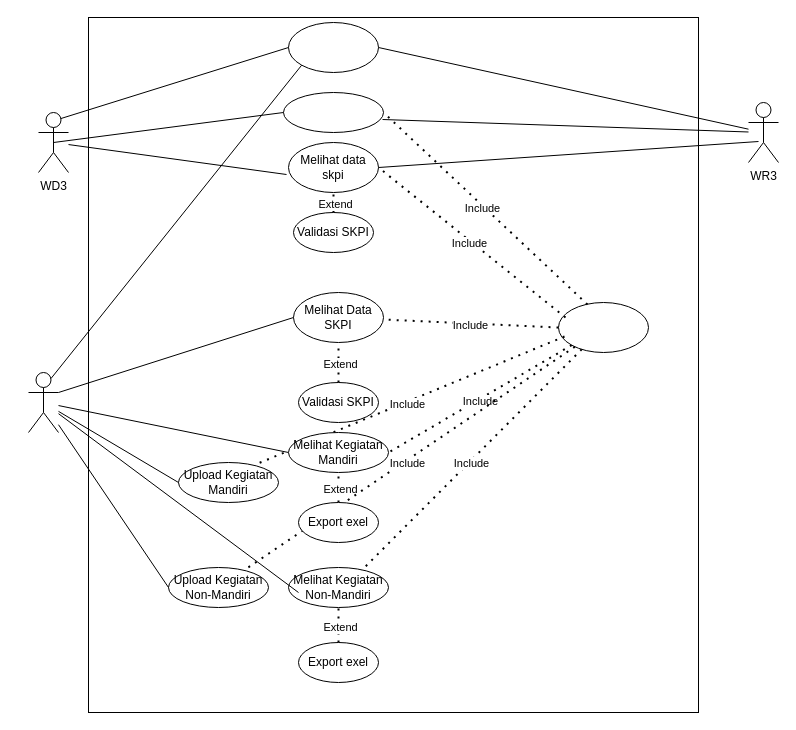
Some shapes in this 796 by 730 pixel diagram are drawn without their labels. The shapes that lost their labels are listed below. From the top down, each one's box as (x1, y1, x2, y2) in pixels, then its label:
(288, 22, 378, 72): Melihat Beranda
(282, 92, 384, 132): Melihat Kegiatan Mahasiswa
(558, 302, 648, 352): Authentications
(28, 372, 58, 432): Direktorat
